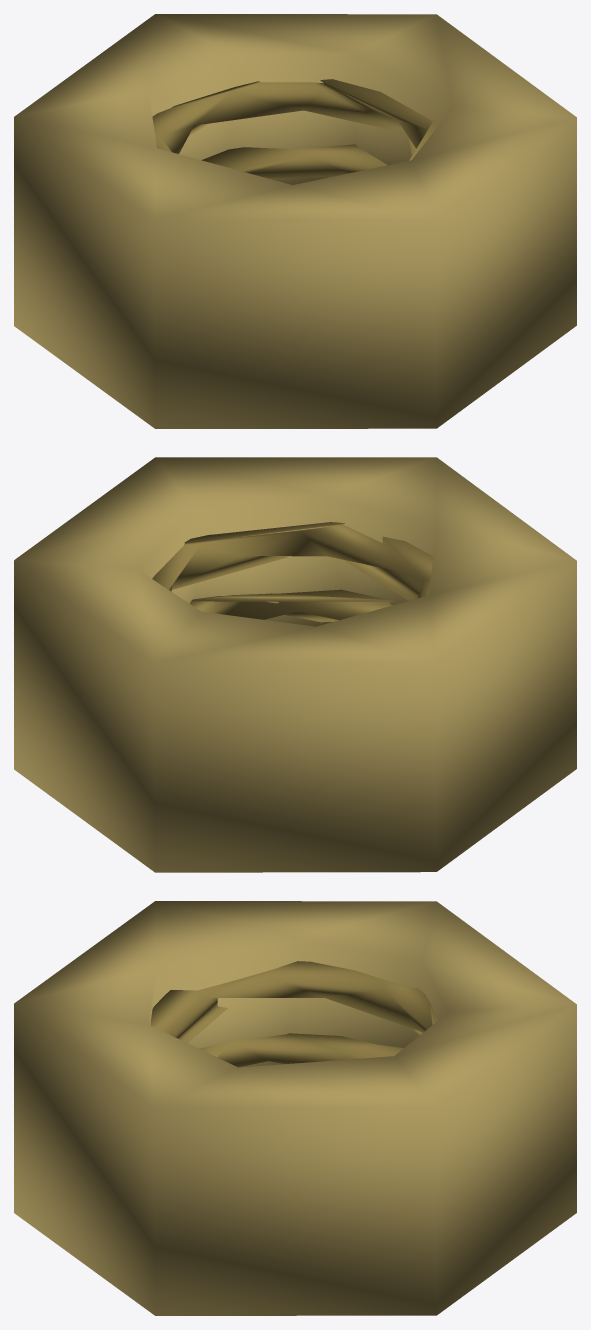
The model's file is oc_dai_oc.glb.
3 views of the same model, one above another, from view 1: azimuth 30°, elevation 25°; view 2: azimuth 150°, elevation 25°; view 3: azimuth 270°, elevation 25° (orthographic).
Parts seen in each view (by area): view 1: oc_dai_oc; view 2: oc_dai_oc; view 3: oc_dai_oc.
Boxes of the visible parts, x1,y1,x2,y2 form: oc_dai_oc: (14,14,576,428); oc_dai_oc: (14,457,576,872); oc_dai_oc: (14,901,576,1315).
Bounding box in the file's own units: 0.0304 × 0.0145 × 0.0351.
